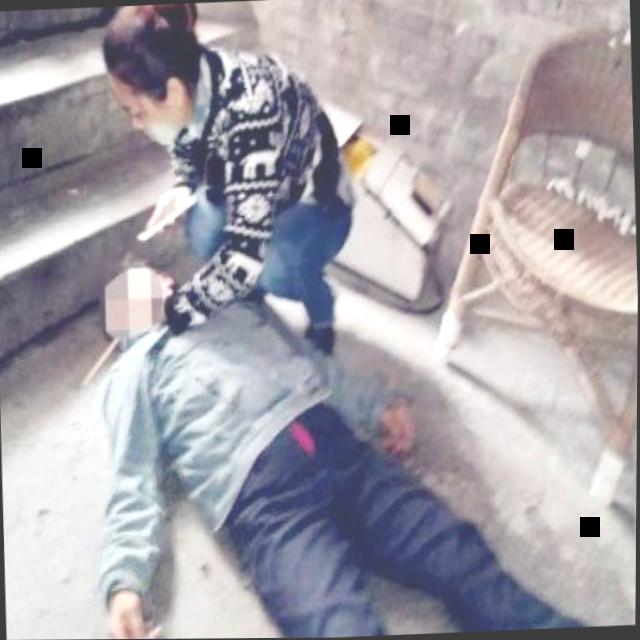Fall-Detected: (68, 206, 639, 640)
